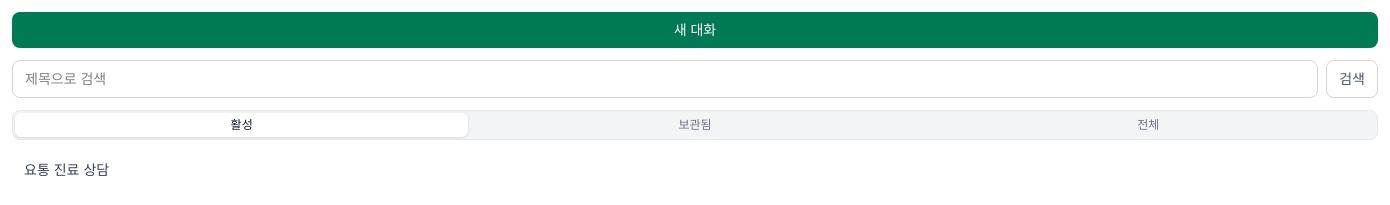
Scenario: 대화 목록 보관 › 기본은 활성만 조회하고, 필터를 바꾸면 해당 status로 재조회한다
The image size is (1390, 205).
Check: the button "요통 진료 상담" is shown, box [12,152,1378,188]
Check: the button "불면 진료 상담" is not shown
Click the button "보관됨".
click(695, 125)  # box [468,113,922,137]
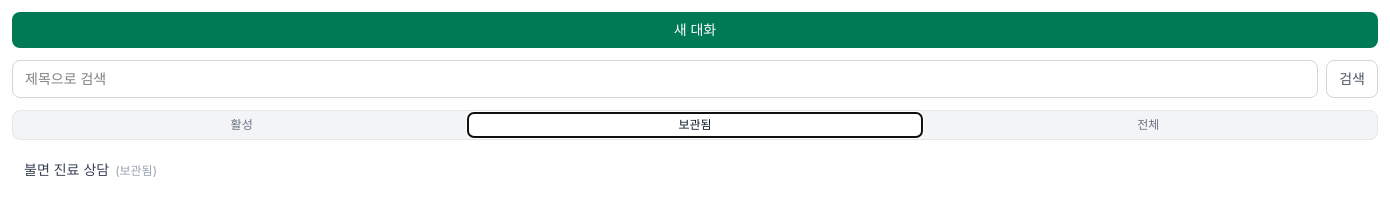
Check: the button "불면 진료 상담(보관됨)" is shown, box [12,152,1378,188]
Check: the button "요통 진료 상담" is gone
